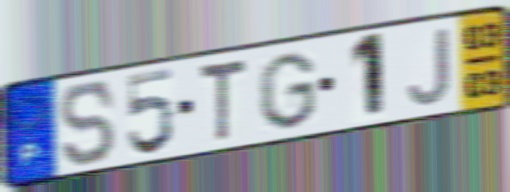1: (347, 29, 387, 122)
5: (125, 65, 177, 159)
G: (256, 50, 320, 132)
J: (405, 24, 453, 108)
S: (58, 79, 119, 170)
T: (196, 55, 249, 145)
